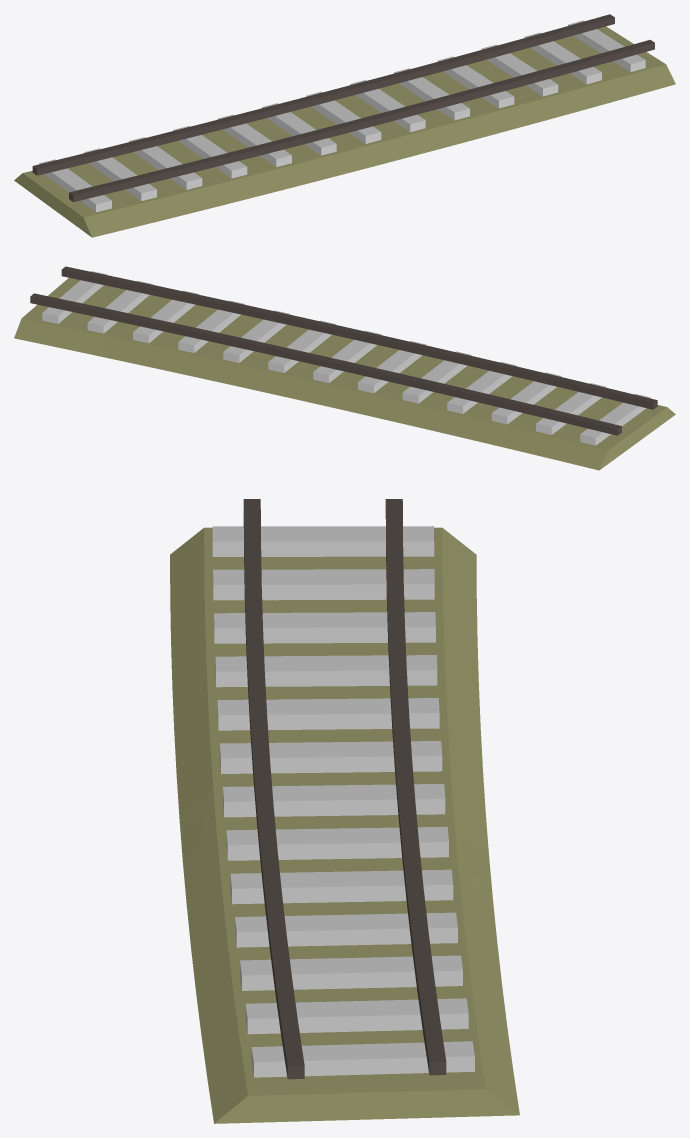
File: SM_Via_CurvaR240_v0_Hormigon_LOD1.fbx
3 renders of one model, top to bottom at view 1: azimuth 30°, elevation 25°; view 2: azimuth 150°, elevation 25°; view 3: azimuth 270°, elevation 25°, orthographic. The views are drawn at different scales.
Visible parts, largest first — view 1: SM_via_trazado_v20_LOD1; view 2: SM_via_trazado_v20_LOD1; view 3: SM_via_trazado_v20_LOD1.
Part boxes in pixels (x1=…): SM_via_trazado_v20_LOD1: x1=14, y1=14, x2=675, y2=237; SM_via_trazado_v20_LOD1: x1=14, y1=266, x2=675, y2=470; SM_via_trazado_v20_LOD1: x1=170, y1=499, x2=519, y2=1123.
Size of the model in its own units: 15.81 by 0.72 by 4.11.
